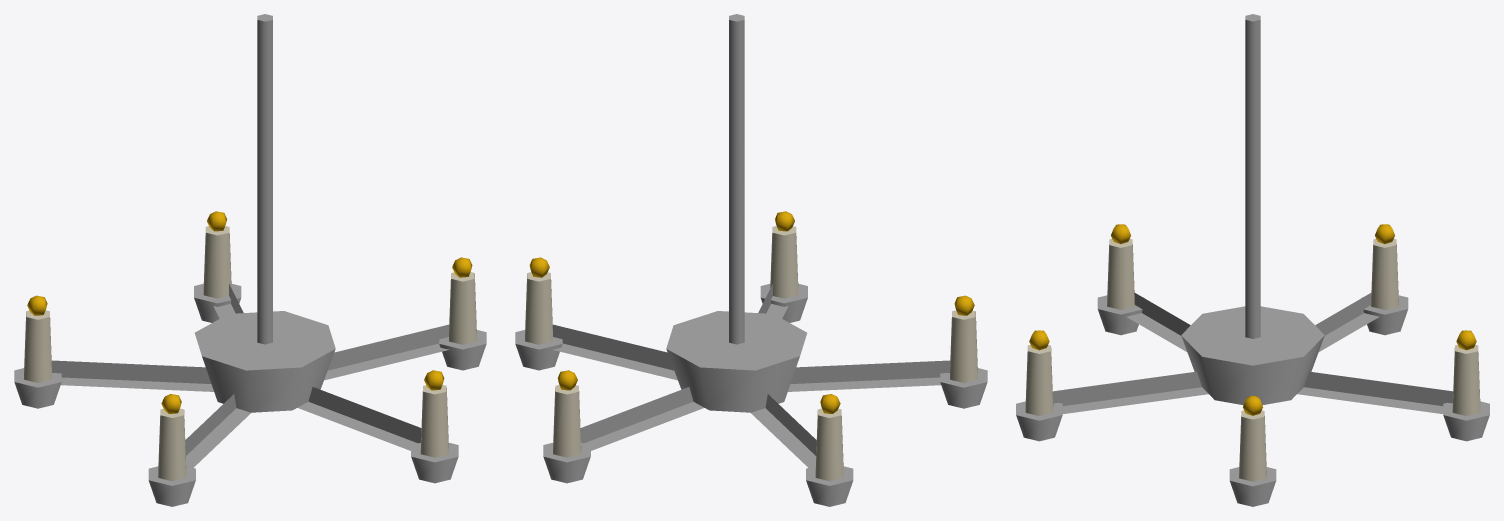
File: chandelier.glb
3 renders of one model, left to right at view 1: azimuth 30°, elevation 25°; view 2: azimuth 150°, elevation 25°; view 3: azimuth 270°, elevation 25°, orthographic.
Size of the model in its own units: 0.5123 by 0.475 by 0.5275.
